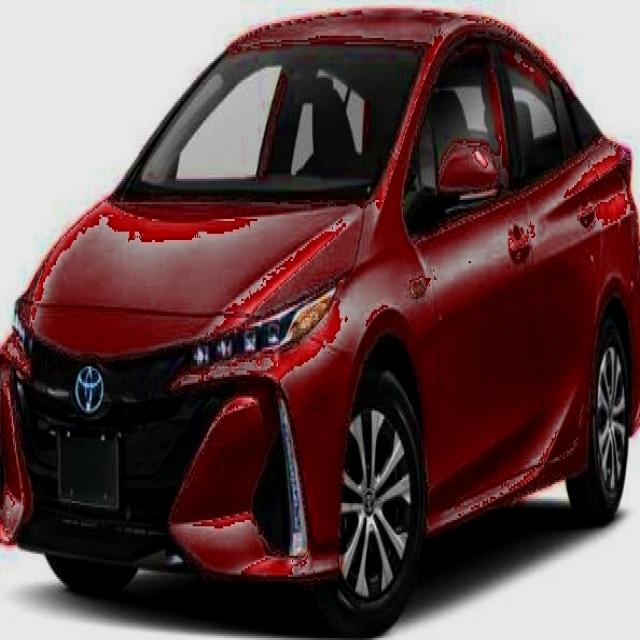maroon: (14, 12, 629, 594)
